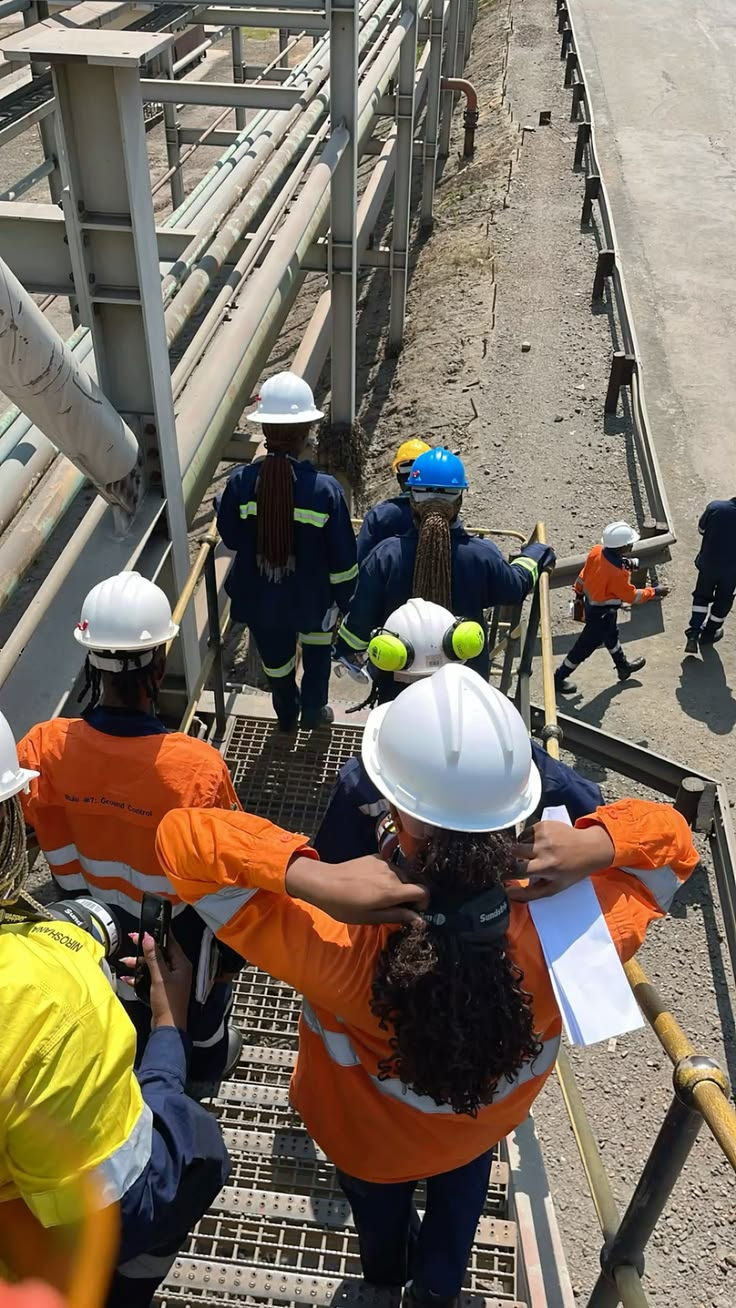hardhat: (356, 686, 529, 847), (49, 579, 160, 686), (356, 583, 472, 658), (226, 377, 345, 443), (577, 507, 643, 572), (408, 445, 474, 500)
person: (176, 675, 687, 1285), (29, 575, 255, 1112), (191, 351, 367, 768), (356, 410, 542, 746), (553, 465, 652, 706), (685, 465, 727, 678)
safety_vest: (182, 803, 667, 1200), (33, 702, 246, 1018), (222, 452, 345, 621), (571, 542, 632, 640)
